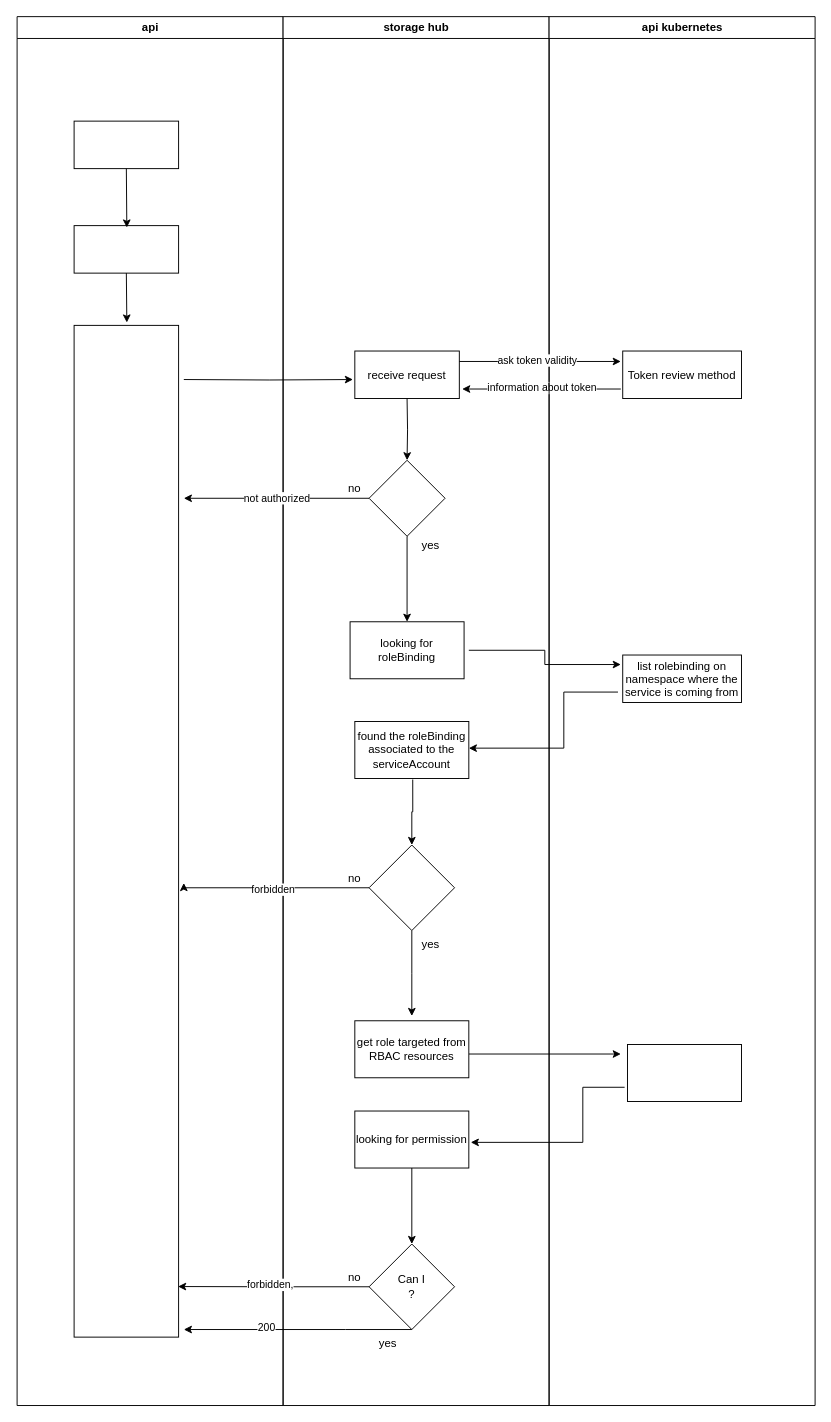
Some shapes in this 831 by 1422 pixel diagram are drawn without their labels. Here are the shapes that lost their labels. From the top down, the centre of each, then its label:
(126,144): idle
(126,249): action
(406,497): token valid/actif?
(126,830): Make request with Bearer header
(411,887): RBAC associated ?
(684,1073): get role
